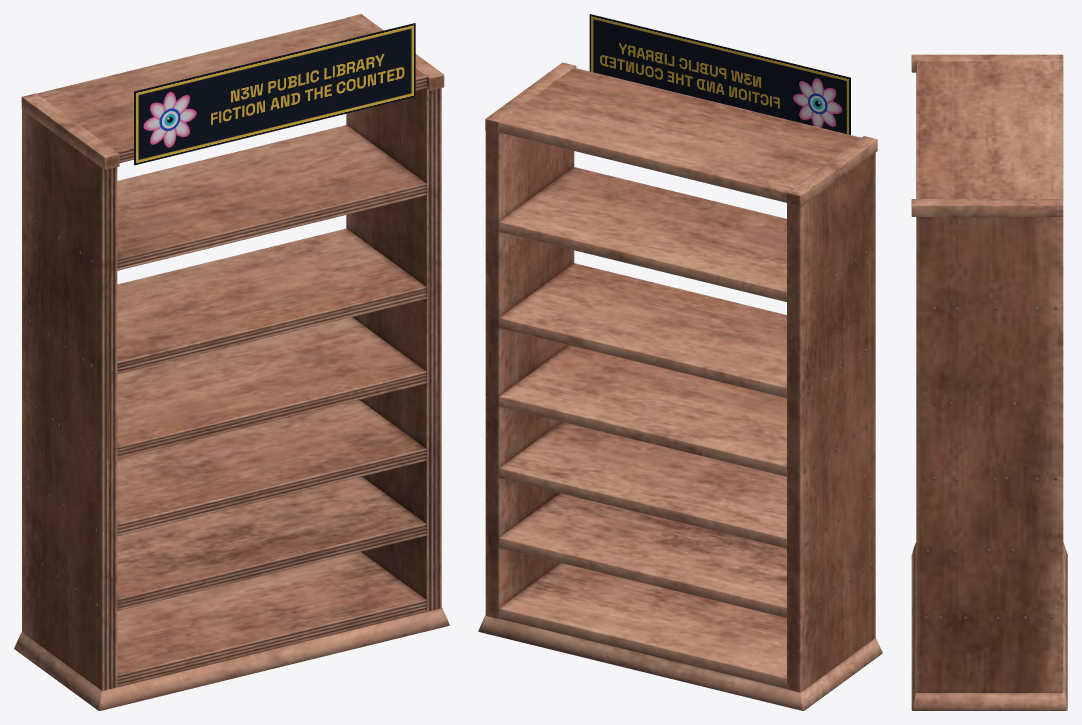
The model's file is nyb_library_shelf.glb.
3 renders of one model, left to right at view 1: azimuth 30°, elevation 25°; view 2: azimuth 150°, elevation 25°; view 3: azimuth 270°, elevation 25°, orthographic. The views are drawn at different scales.
Visible parts, largest first — view 1: wooden_bookshelf_worn, add_lbl_a7eed3cfbc.png; view 2: wooden_bookshelf_worn, add_lbl_a7eed3cfbc.png; view 3: wooden_bookshelf_worn.
Part boxes in pixels (x1,y1,x2,y2): wooden_bookshelf_worn: [14, 14, 449, 710]; add_lbl_a7eed3cfbc.png: [134, 23, 415, 165]; wooden_bookshelf_worn: [478, 62, 882, 710]; add_lbl_a7eed3cfbc.png: [589, 14, 850, 134]; wooden_bookshelf_worn: [911, 54, 1067, 710].
Size of the model in its own units: 1.37 by 2.28 by 0.5825.
2 materials, 2 textured.
